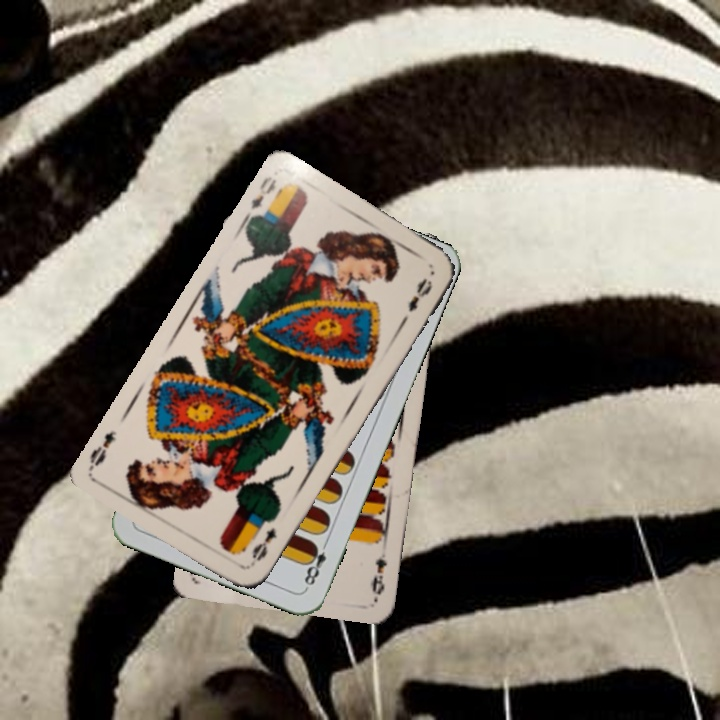E8: (300, 535, 332, 591)
E9: (368, 549, 390, 601)
EO: (240, 172, 284, 224), (246, 523, 280, 569)
